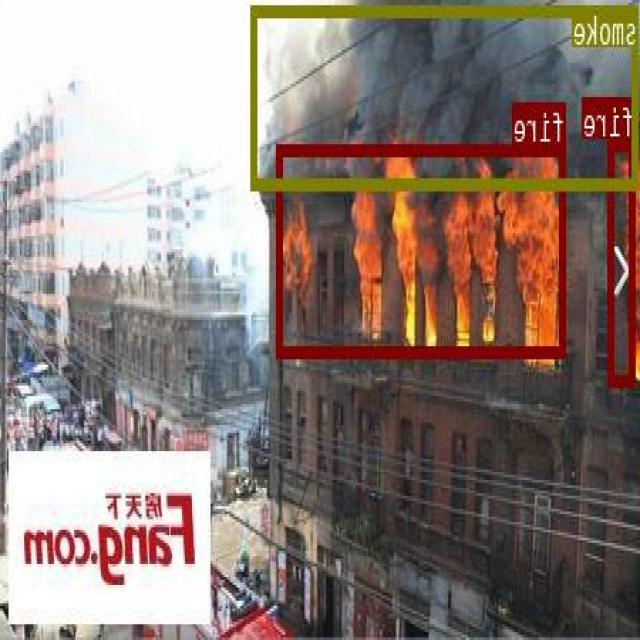fire: (279, 142, 567, 356), (610, 138, 636, 383)
smoke: (252, 4, 640, 187)
